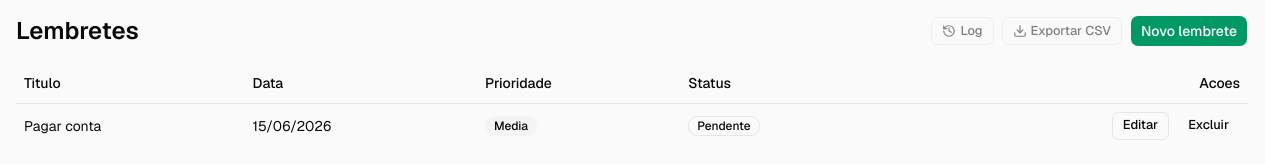
Test: LembretesPage › exibe confirmacao ao clicar em Excluir
Expected: the text "Pagar conta" is shown, [16, 103, 244, 148]
Click the button "Excluir": coordinates (1209, 126) [1177, 112, 1240, 140]
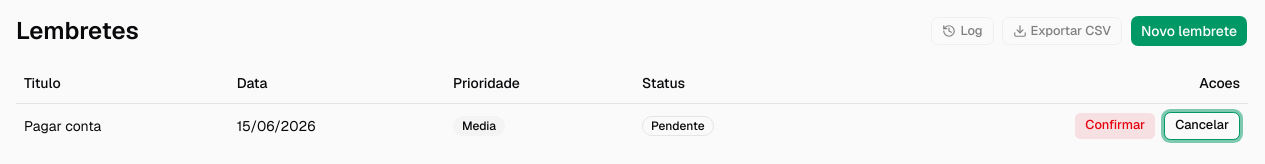
Expected: the button "Confirmar" is shown, [1074, 112, 1156, 140]
